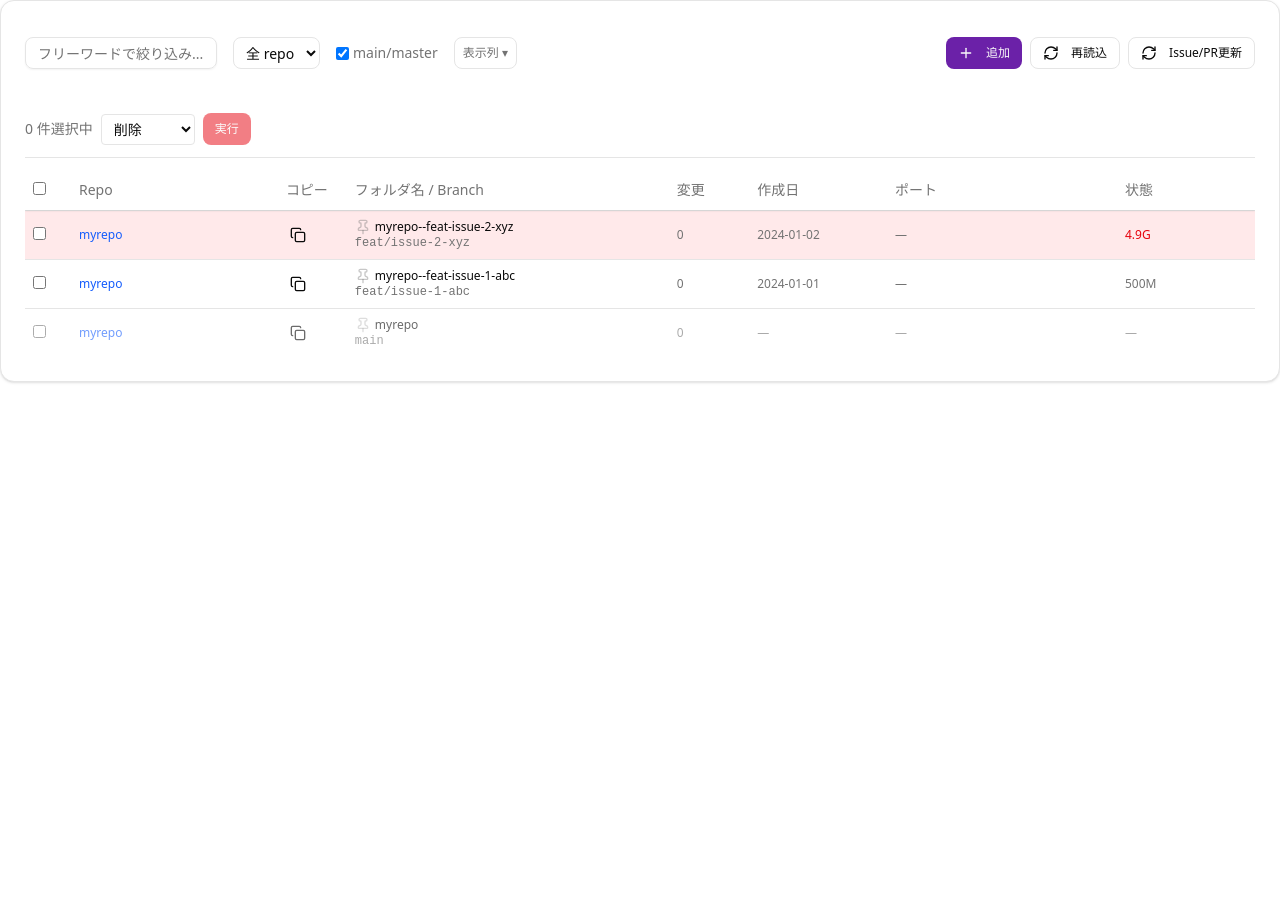
Scenario: TreesPage - process stats › 状態リンククリックでオーバーレイが開きサービス名と RSS が見える
This screenshot has width=1280, height=900.
Click the button "500M" at (1141, 284), box [1125,276,1156,292]
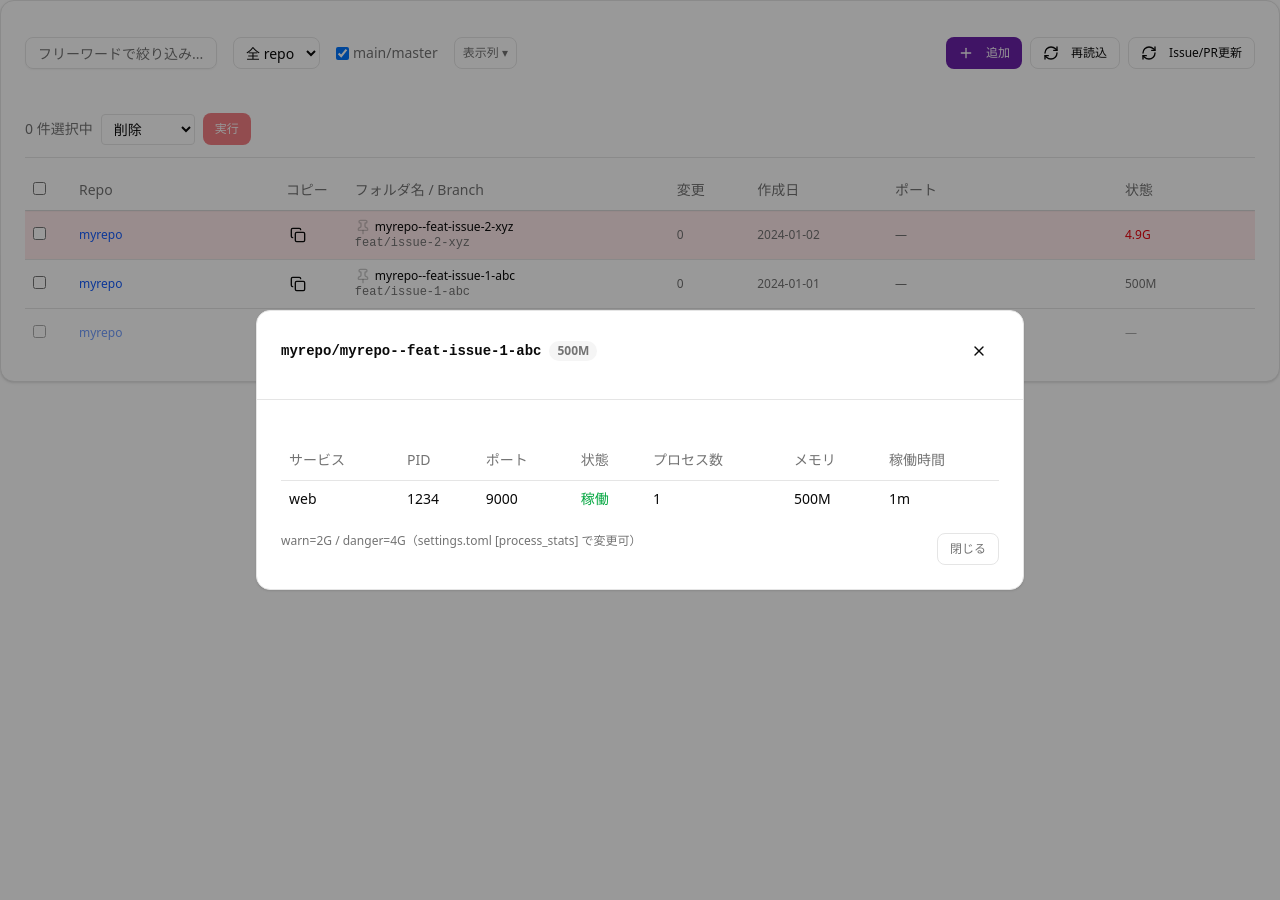
Expected: the text "myrepo/myrepo--feat-issue-1-abc" is shown, [281,341,542,361]
Expected: the text "web" is shown, [281,480,399,517]
